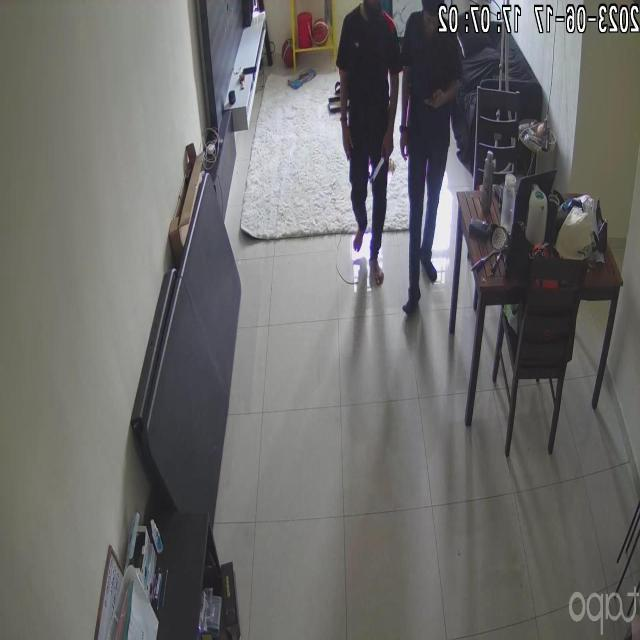Knife: (363, 153, 389, 187)
